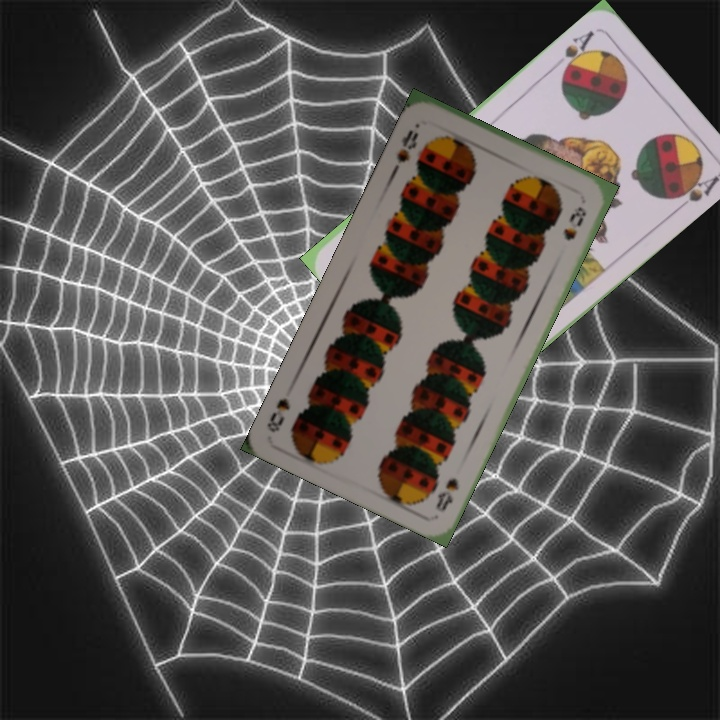S8: (389, 125, 421, 173), (431, 474, 462, 515)
SA: (558, 26, 597, 77)
